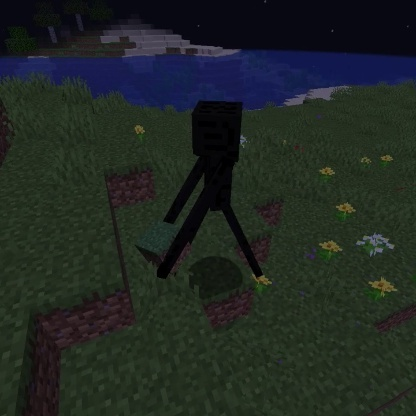enderman: (142, 98, 266, 281)
